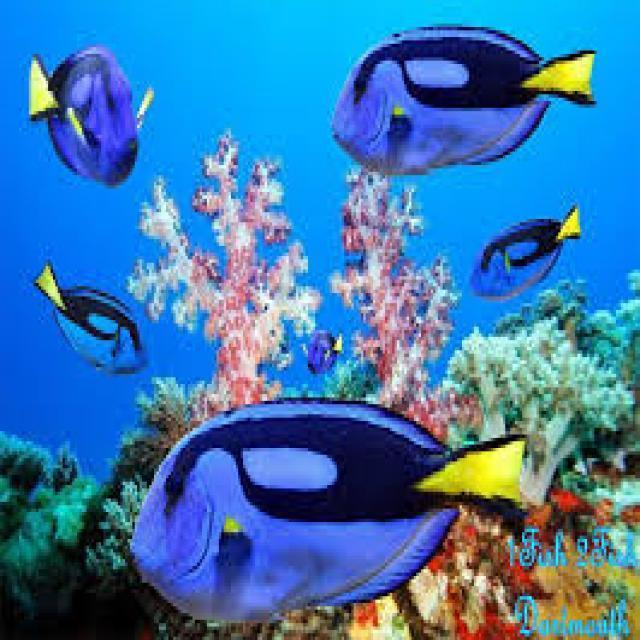TangFish: (123, 392, 524, 623), (332, 16, 598, 173), (22, 44, 159, 188), (29, 258, 150, 378), (468, 198, 584, 302)
